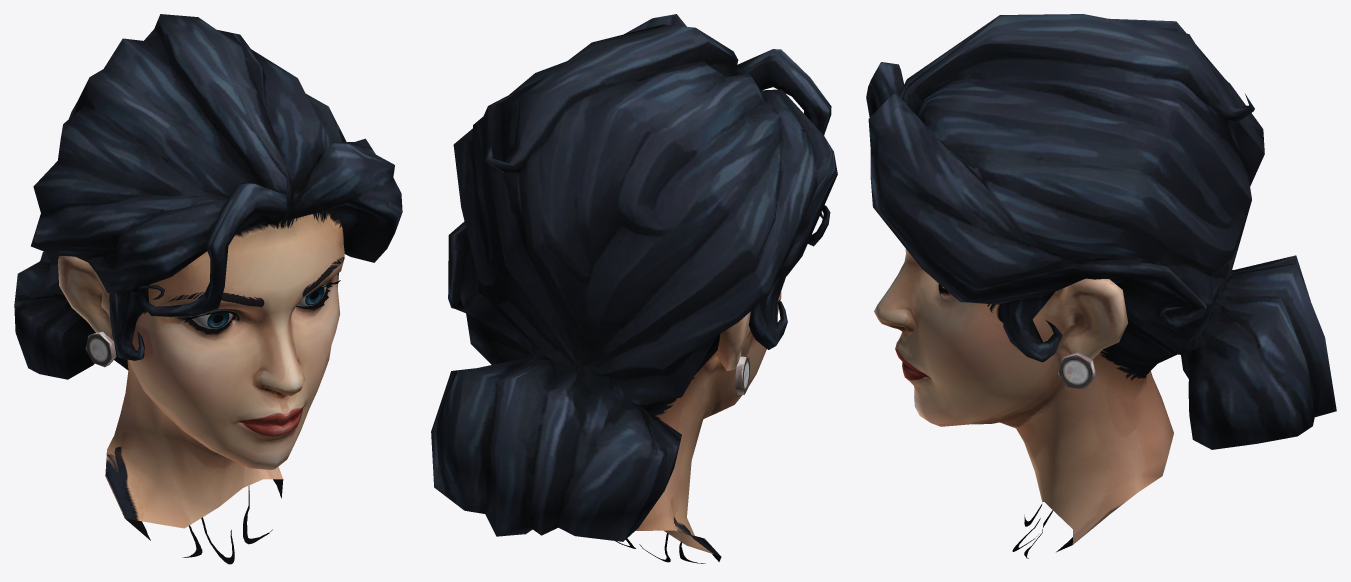
The model's file is snow-white.glb.
3 views of the same model, side by side, from view 1: azimuth 30°, elevation 25°; view 2: azimuth 150°, elevation 25°; view 3: azimuth 270°, elevation 25° (orthographic). The views are drawn at different scales.
Parts seen in each view (by area): view 1: Object_11, Object_19, Object_13, Object_17, Object_16, Object_29, Object_5; view 2: Object_11, Object_17, Object_13, Object_19; view 3: Object_11, Object_19, Object_17, Object_13, Object_29.
Part boxes in pixels (x1,y1,x2,y2): Object_11: [14, 14, 402, 379]; Object_19: [130, 210, 344, 467]; Object_13: [105, 393, 282, 528]; Object_17: [58, 215, 333, 470]; Object_16: [125, 479, 283, 564]; Object_29: [85, 331, 116, 367]; Object_5: [189, 284, 326, 329]; Object_11: [431, 14, 837, 541]; Object_17: [655, 311, 751, 463]; Object_13: [635, 461, 721, 556]; Object_19: [734, 291, 781, 404]; Object_11: [866, 14, 1336, 449]; Object_19: [874, 249, 1059, 424]; Object_17: [889, 255, 1155, 445]; Object_13: [1024, 378, 1173, 544]; Object_29: [1058, 352, 1096, 389].
Size of the model in its own units: 0.2701 by 0.4494 by 0.3587.
Materials: 15 (15 with a texture image).
